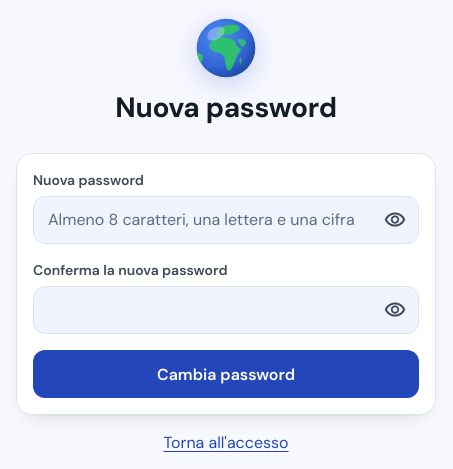
Test case: il token lascia la barra degli indirizzi ma il link funziona lo stesso
Type "nuova1234" into the password field labelled "Nuova password" at (226, 220), box [33,196,419,244]
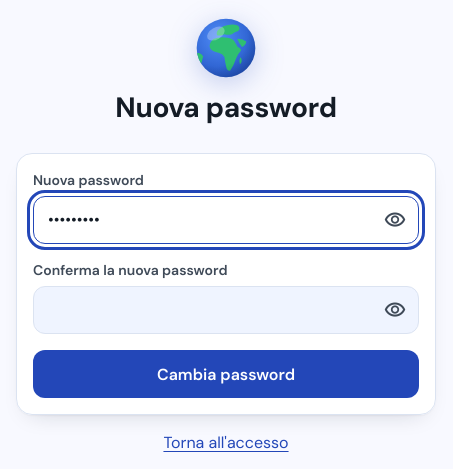
Type "nuova1234" into the password field labelled "Conferma la nuova password" at (226, 310), box [33,286,419,334]
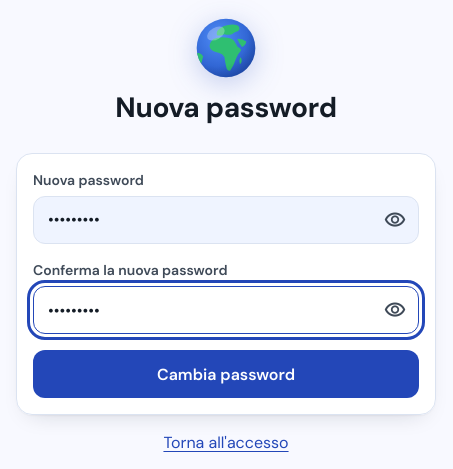
Click the button "Cambia password" at (226, 374), box [33,350,419,398]
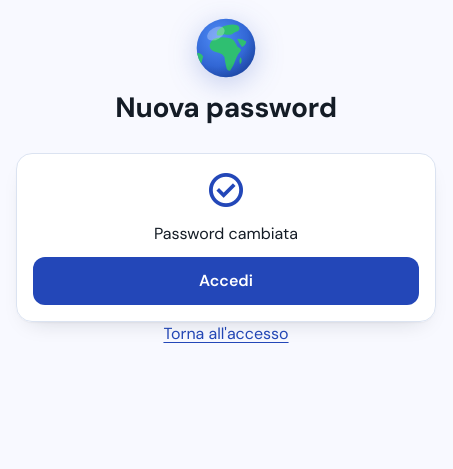
Result: the text "Password cambiata" is shown at [154,222,298,245]
